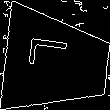L_E: (33, 44, 81, 80)
